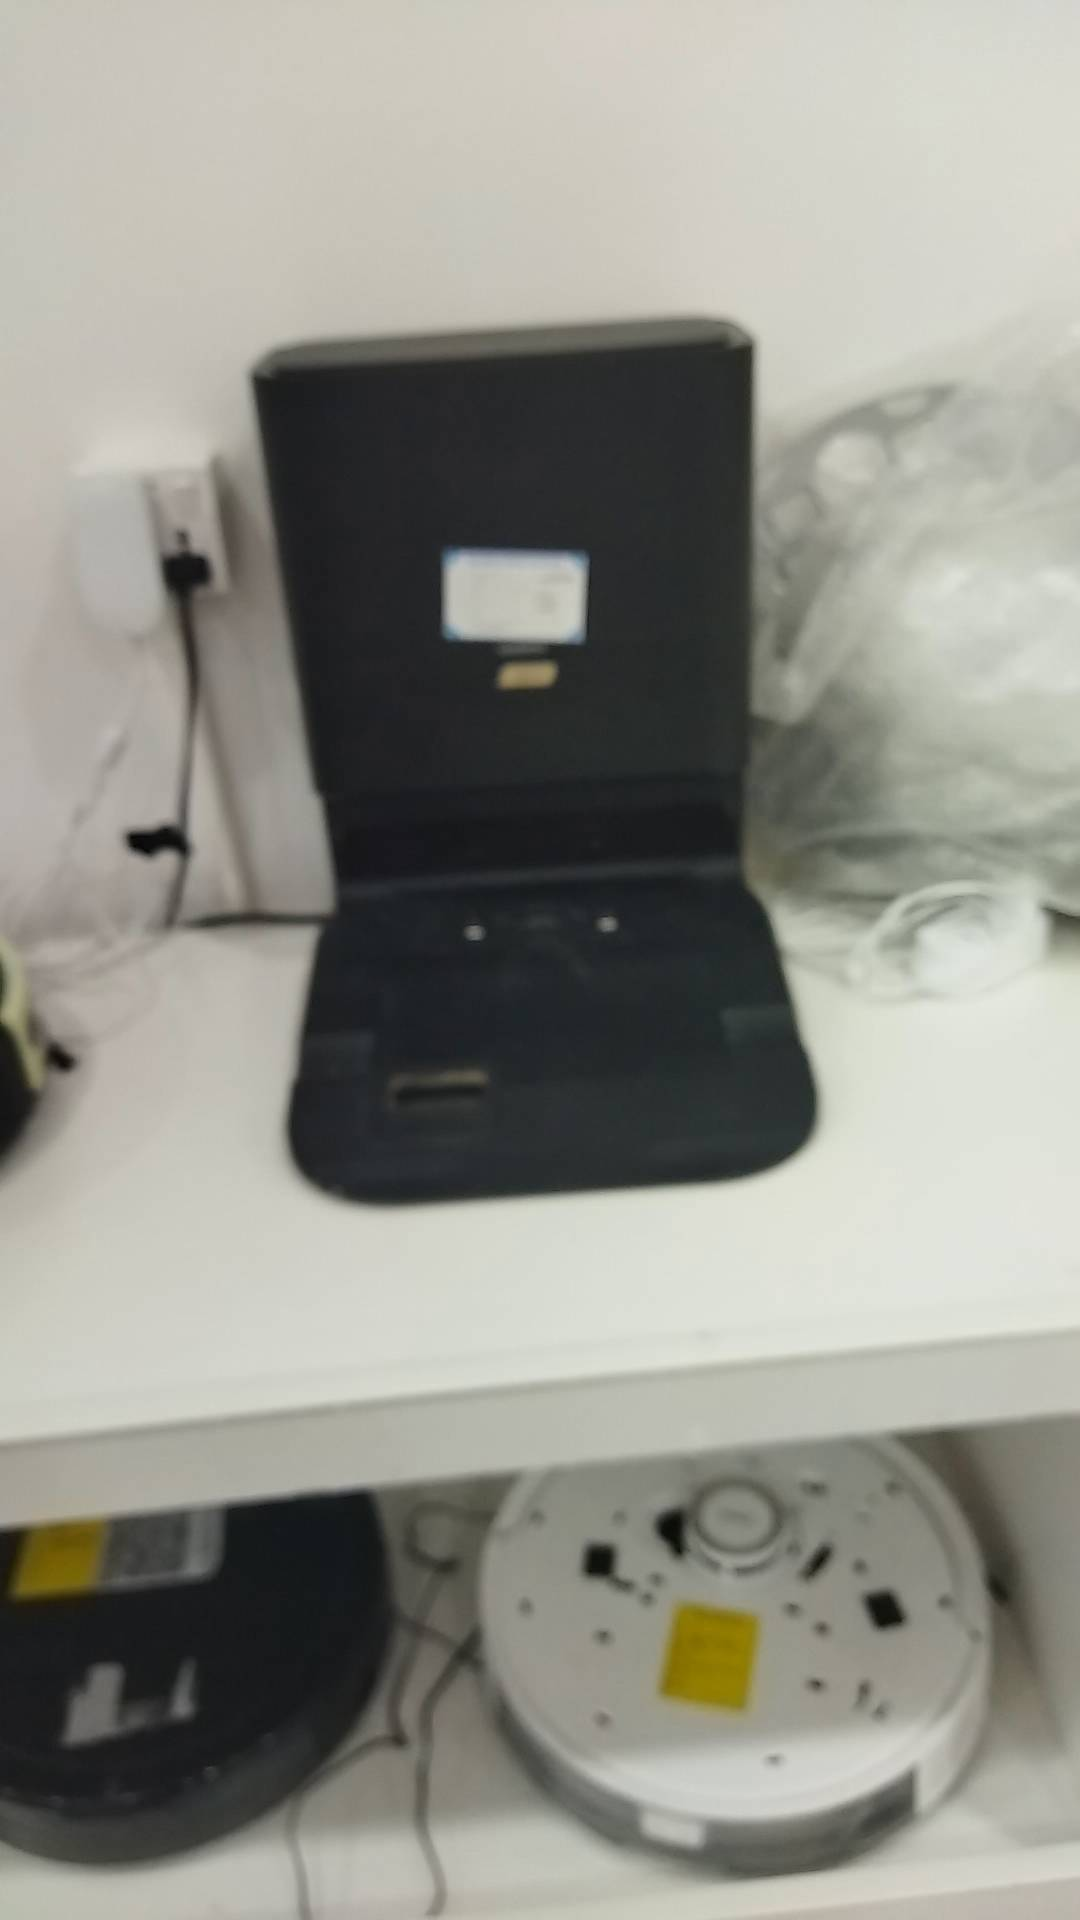dust collecting barrel: (245, 311, 818, 1205)
